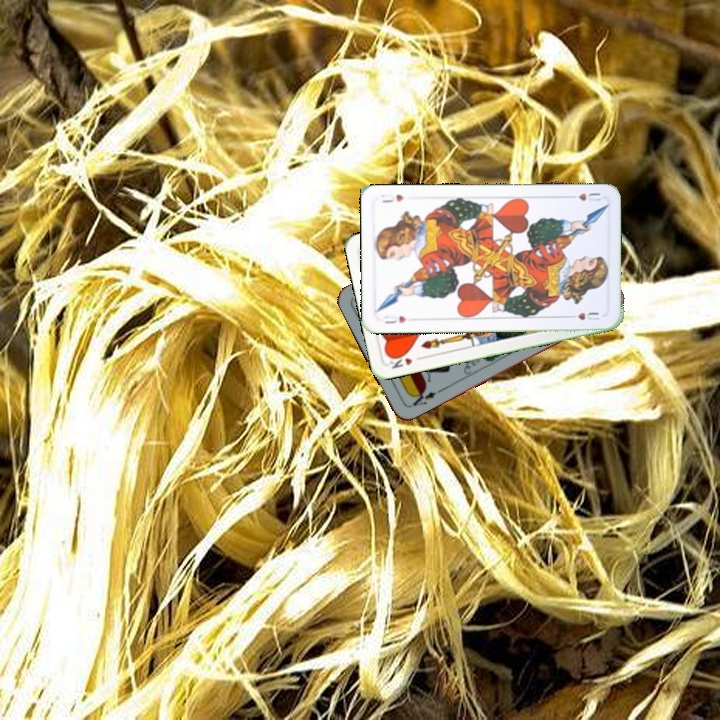EA: (408, 385, 444, 409)
HK: (386, 350, 425, 371)
HU: (564, 189, 604, 204), (380, 311, 409, 326)
